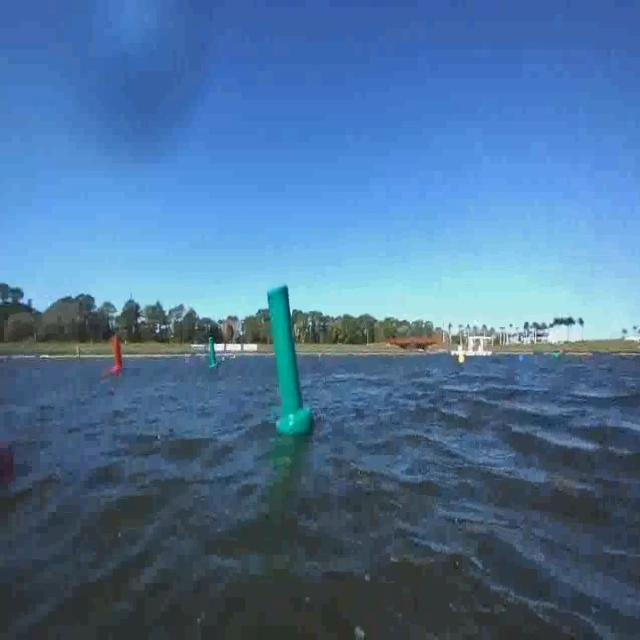blue-buoy: (518, 352, 526, 364)
green-column-buoy: (266, 284, 314, 434), (208, 337, 218, 369)
red-column-buoy: (114, 336, 126, 373)
yellow-buoy: (458, 353, 465, 366)
